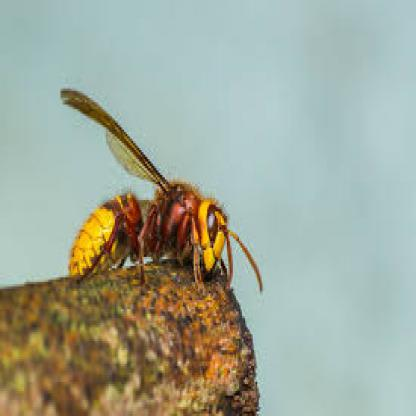european: (55, 80, 266, 314)
